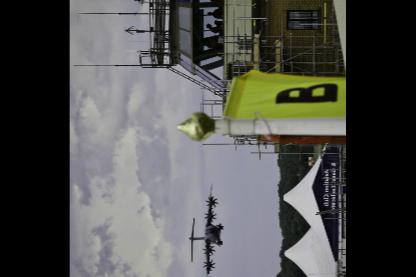A400M: (188, 181, 224, 276)
